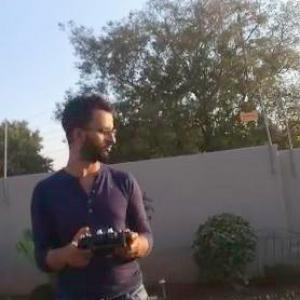follow: (30, 87, 161, 299)
